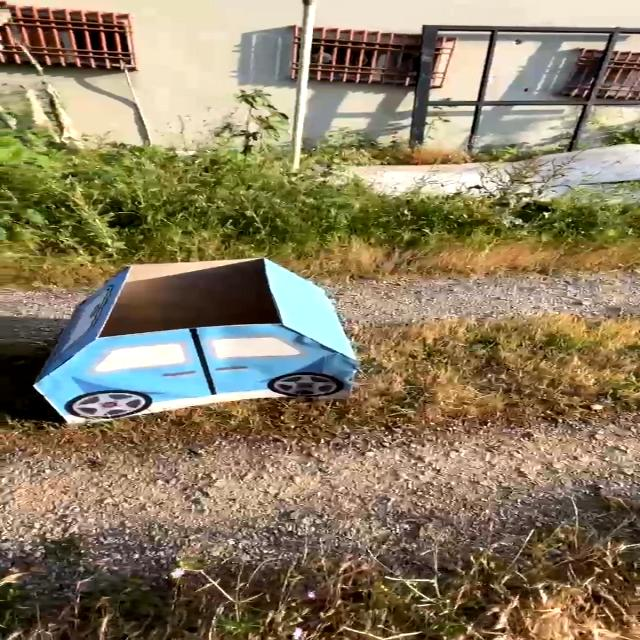blue_car: (0, 238, 427, 441)
